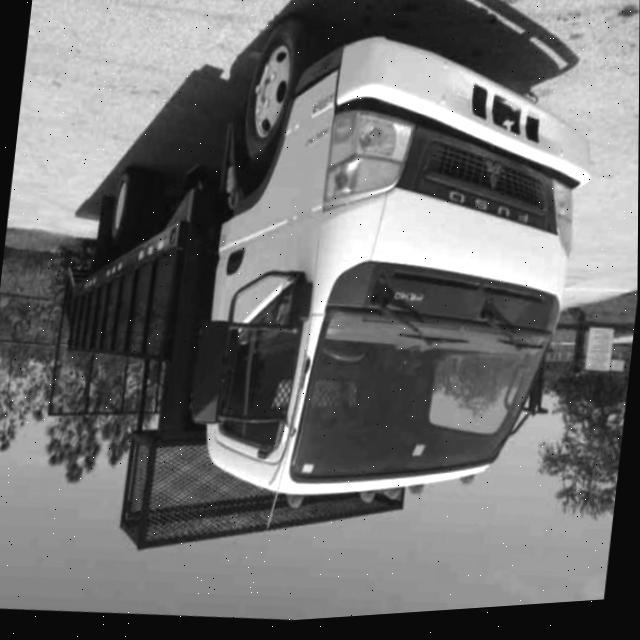truck: (41, 0, 609, 603)
